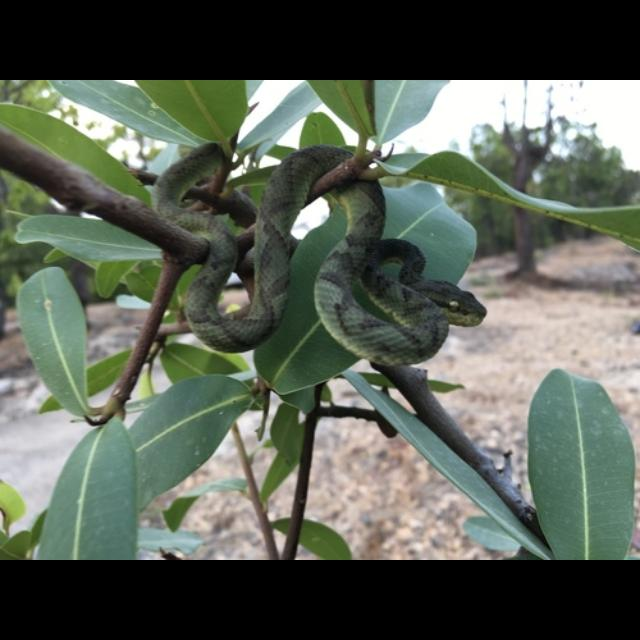snake: (147, 137, 487, 379)
